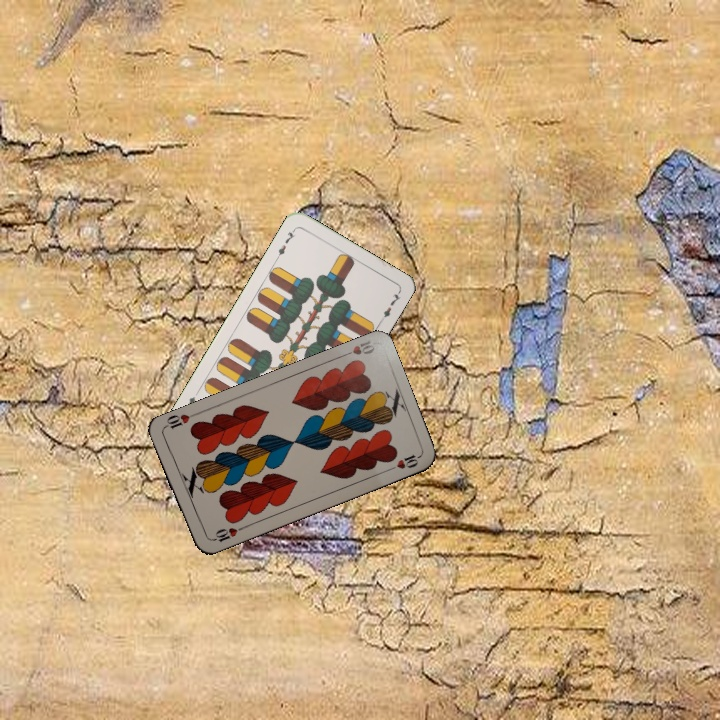E7: (272, 224, 298, 261)
H10: (337, 336, 377, 360), (207, 523, 246, 545)
